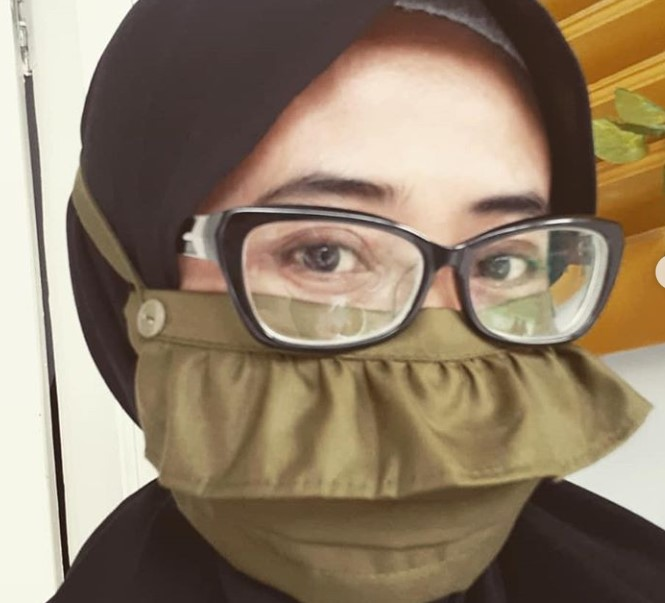face_with_mask: (75, 0, 654, 603)
